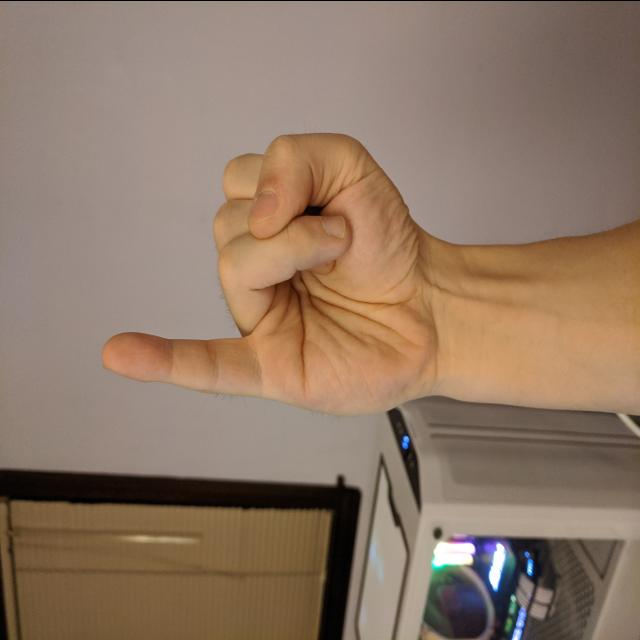I: (92, 125, 452, 426)
